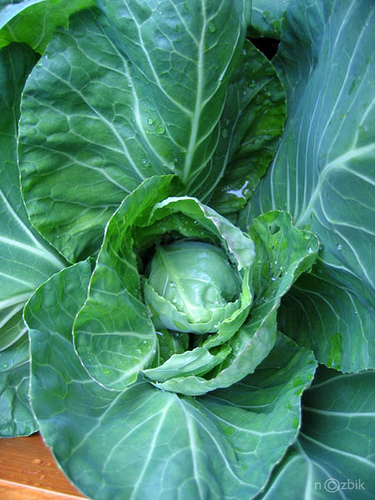cabbage: (66, 173, 330, 400)
